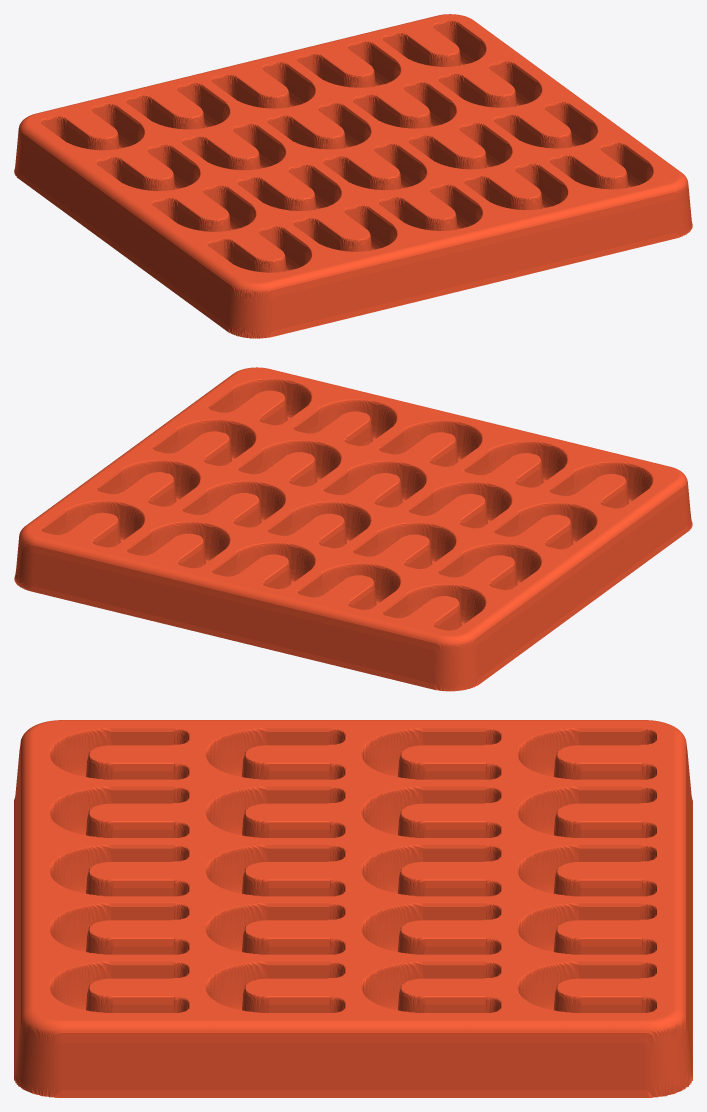
Rendered from mold.glb.
3 renders of one model, top to bottom at view 1: azimuth 30°, elevation 25°; view 2: azimuth 150°, elevation 25°; view 3: azimuth 270°, elevation 25°, orthographic. The views are drawn at different scales.
Visible parts, largest first — view 1: geometry_0; view 2: geometry_0; view 3: geometry_0.
Part boxes in pixels (box(x1,y1,x2,y2)): geometry_0: box(14, 14, 692, 338); geometry_0: box(14, 367, 692, 691); geometry_0: box(14, 720, 692, 1097).
Size of the model in its own units: 0.1402 by 0.0145 by 0.1278.
